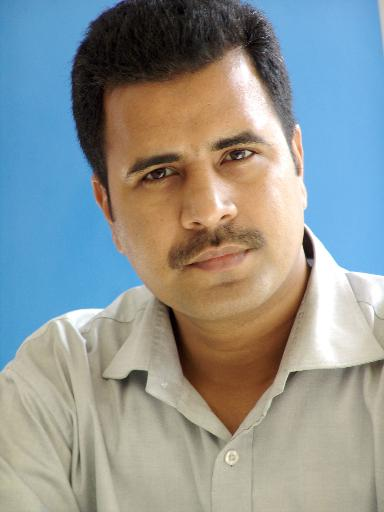left_eye: (217, 145, 266, 165)
left_lip_corner: (241, 239, 260, 264)
right_eye: (135, 165, 183, 186)
right_lip_corner: (180, 257, 198, 275)
